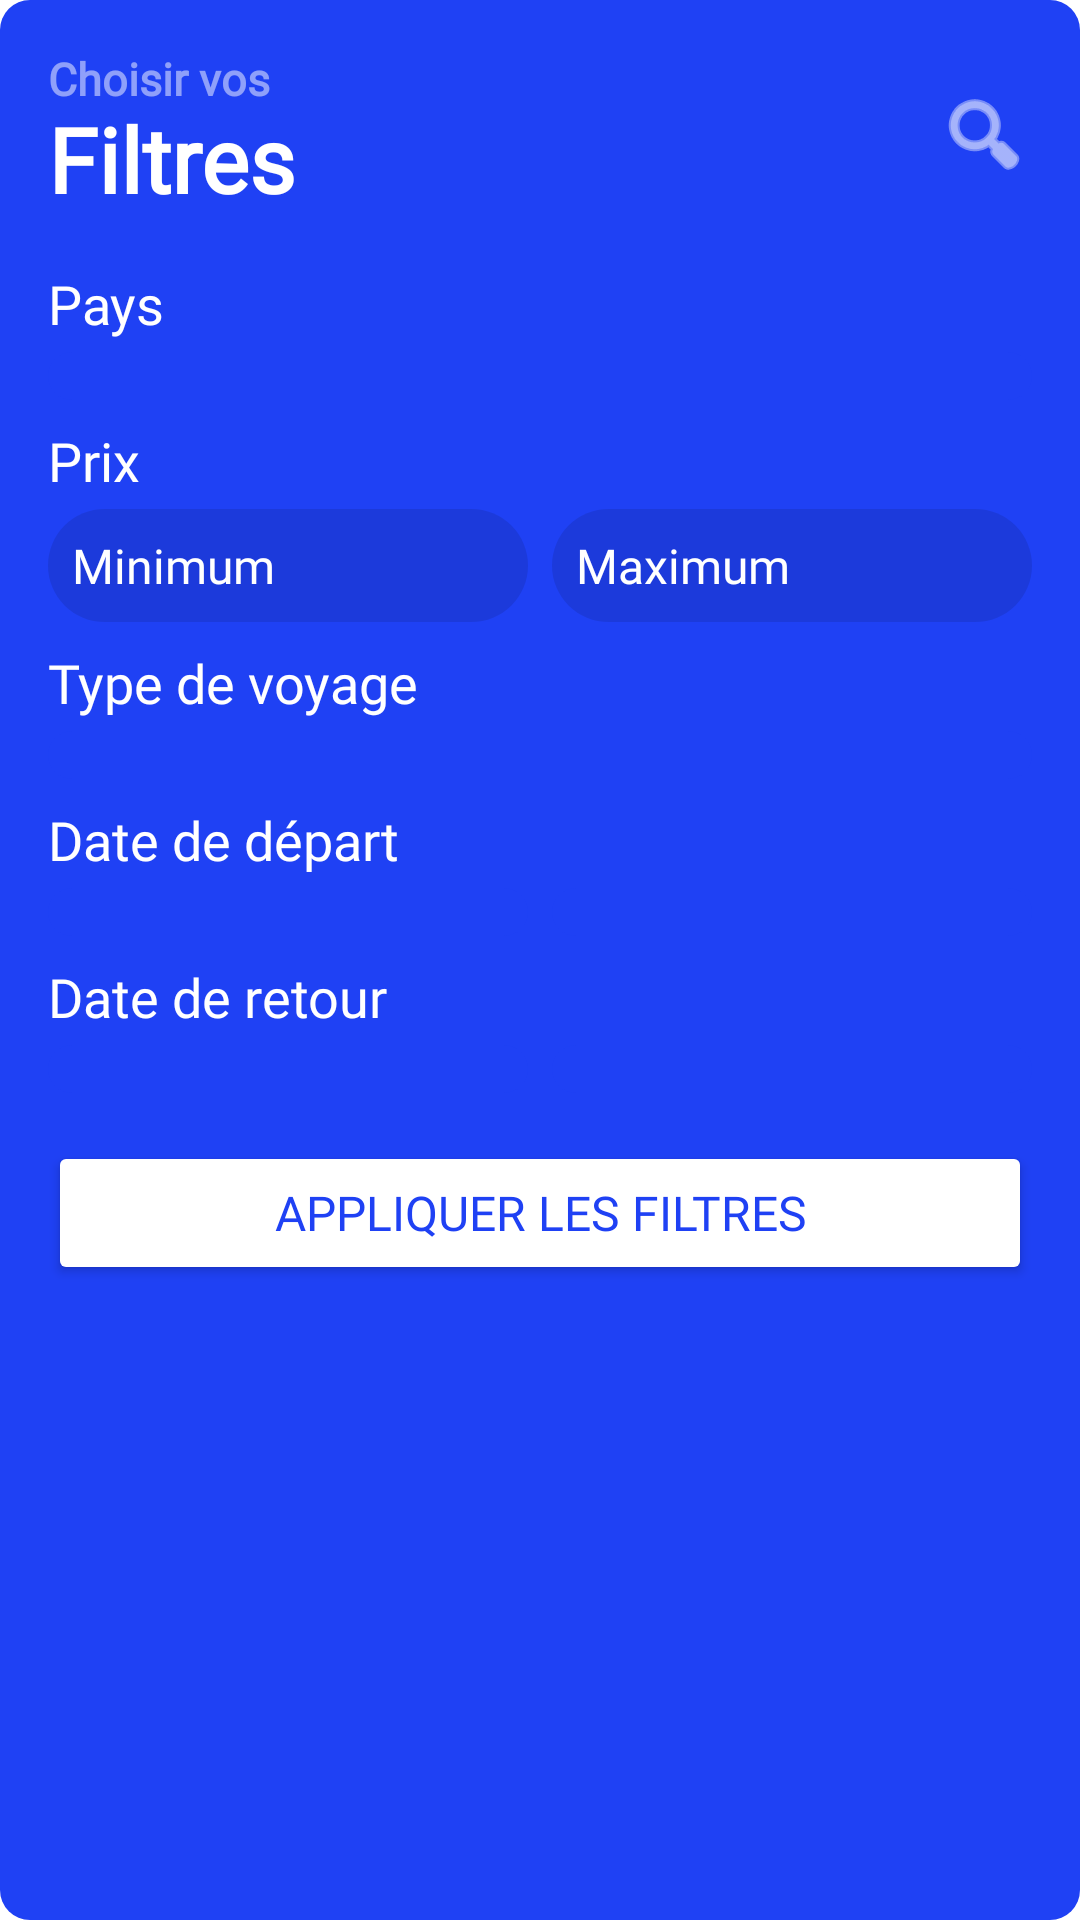

Locate icon controls on the screen. Image size 1080*1920, boxes as (x1, y1, x2, y2).
Search filters: (948, 99, 1020, 170)
